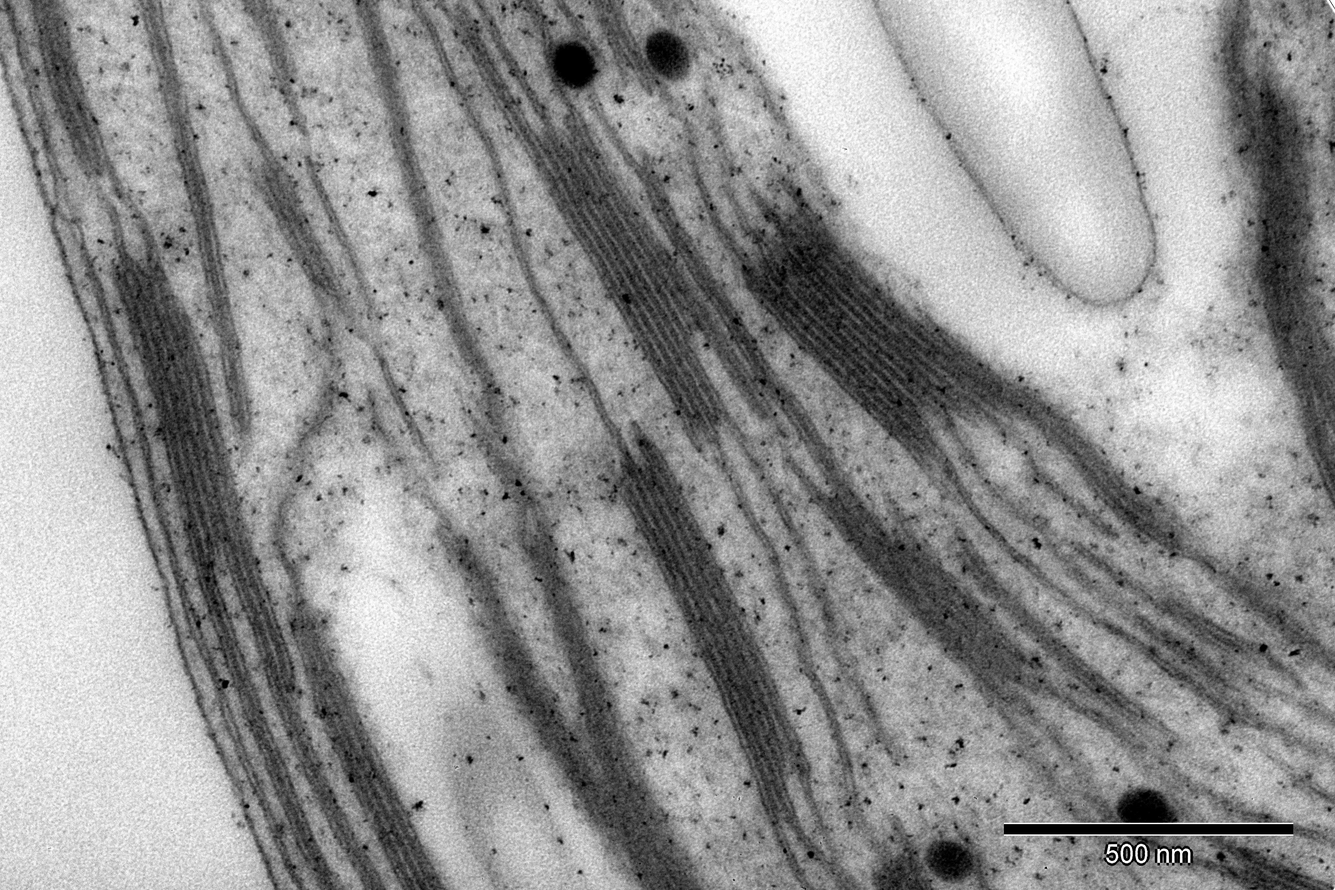granum: (730, 193, 1200, 565), (431, 519, 719, 890), (105, 248, 302, 699), (608, 442, 819, 836), (514, 107, 736, 441), (809, 467, 1053, 734), (285, 610, 456, 890), (1242, 78, 1335, 516), (241, 151, 349, 309), (24, 0, 117, 182), (1205, 836, 1335, 890), (585, 0, 648, 77), (863, 837, 940, 890)
